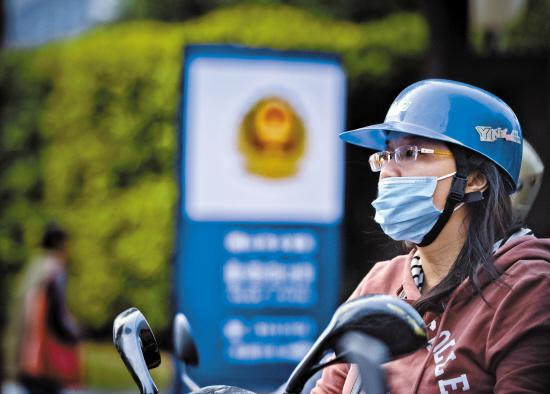WRONG: (373, 140, 472, 239)
